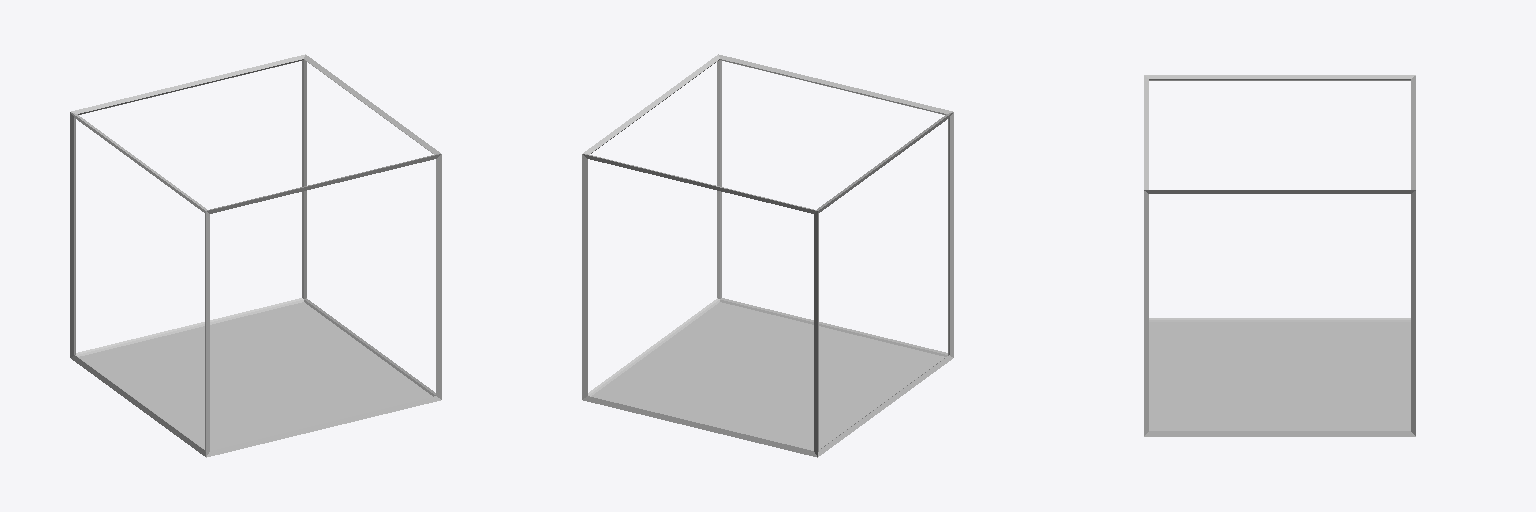
File: cubicZone.obj
3 renders of one model, left to right at view 1: azimuth 30°, elevation 25°; view 2: azimuth 150°, elevation 25°; view 3: azimuth 270°, elevation 25°, orthographic.
Parts seen in each view (by area): view 1: Cube_Cube.002; view 2: Cube_Cube.002; view 3: Cube_Cube.002.
Part boxes in pixels (x1,y1,x2,y2): Cube_Cube.002: (70,54,441,457); Cube_Cube.002: (582,54,953,457); Cube_Cube.002: (1144,75,1415,436).
Bounding box in the file's own units: 2.03 × 2.03 × 2.03.